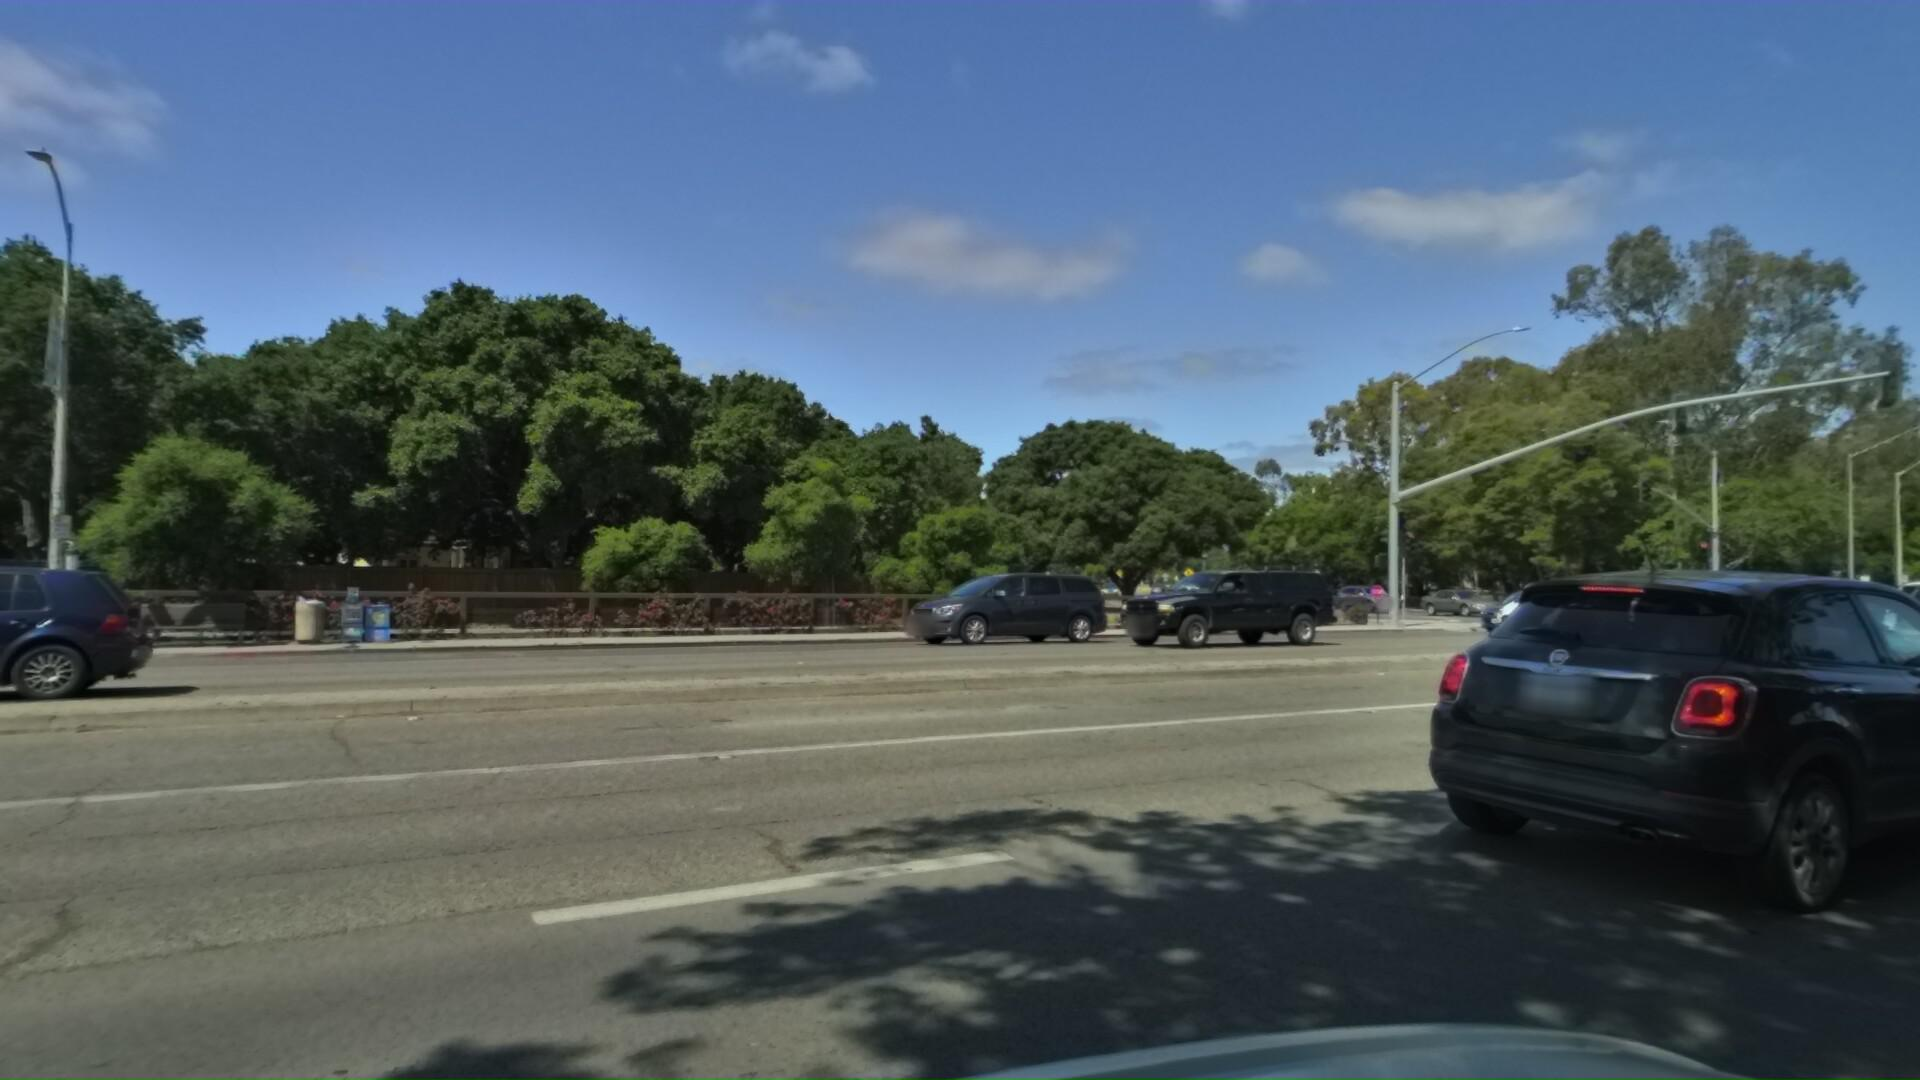car: (1394, 527, 1920, 968), (1691, 584, 1920, 709), (0, 542, 131, 719), (1087, 550, 1313, 644), (877, 564, 1096, 645), (1495, 579, 1638, 636), (1461, 579, 1590, 628), (1876, 553, 1920, 676), (1862, 556, 1920, 641), (1577, 566, 1685, 604), (1408, 575, 1513, 608), (1327, 574, 1408, 607)
